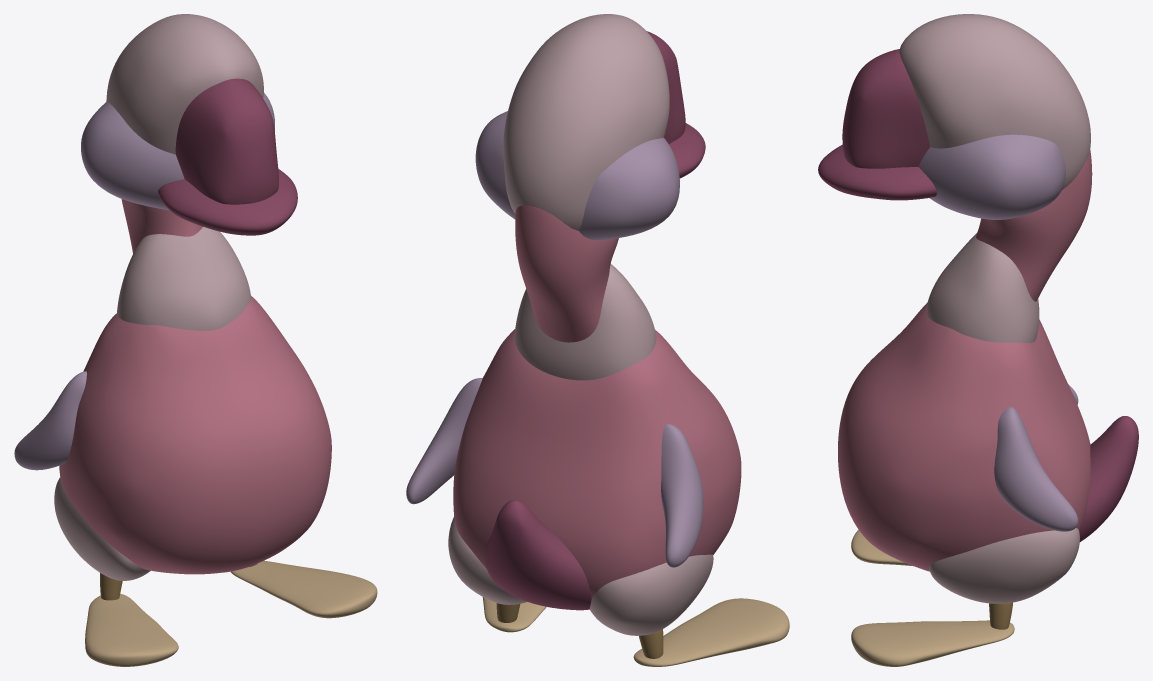
Rendered from canard2.glb.
The picture shows the model from 3 angles, left to right: view 1: azimuth 30°, elevation 25°; view 2: azimuth 150°, elevation 25°; view 3: azimuth 270°, elevation 25°; orthographic projection. The views are drawn at different scales.
Parts seen in each view (by area): view 1: PolySphere; view 2: PolySphere; view 3: PolySphere.
Boxes of the visible parts, left/top/right/bottom form: PolySphere: left=14, top=14, right=377, bottom=666; PolySphere: left=406, top=14, right=789, bottom=666; PolySphere: left=818, top=14, right=1138, bottom=666.
Size of the model in its own units: 151 by 296 by 147.
